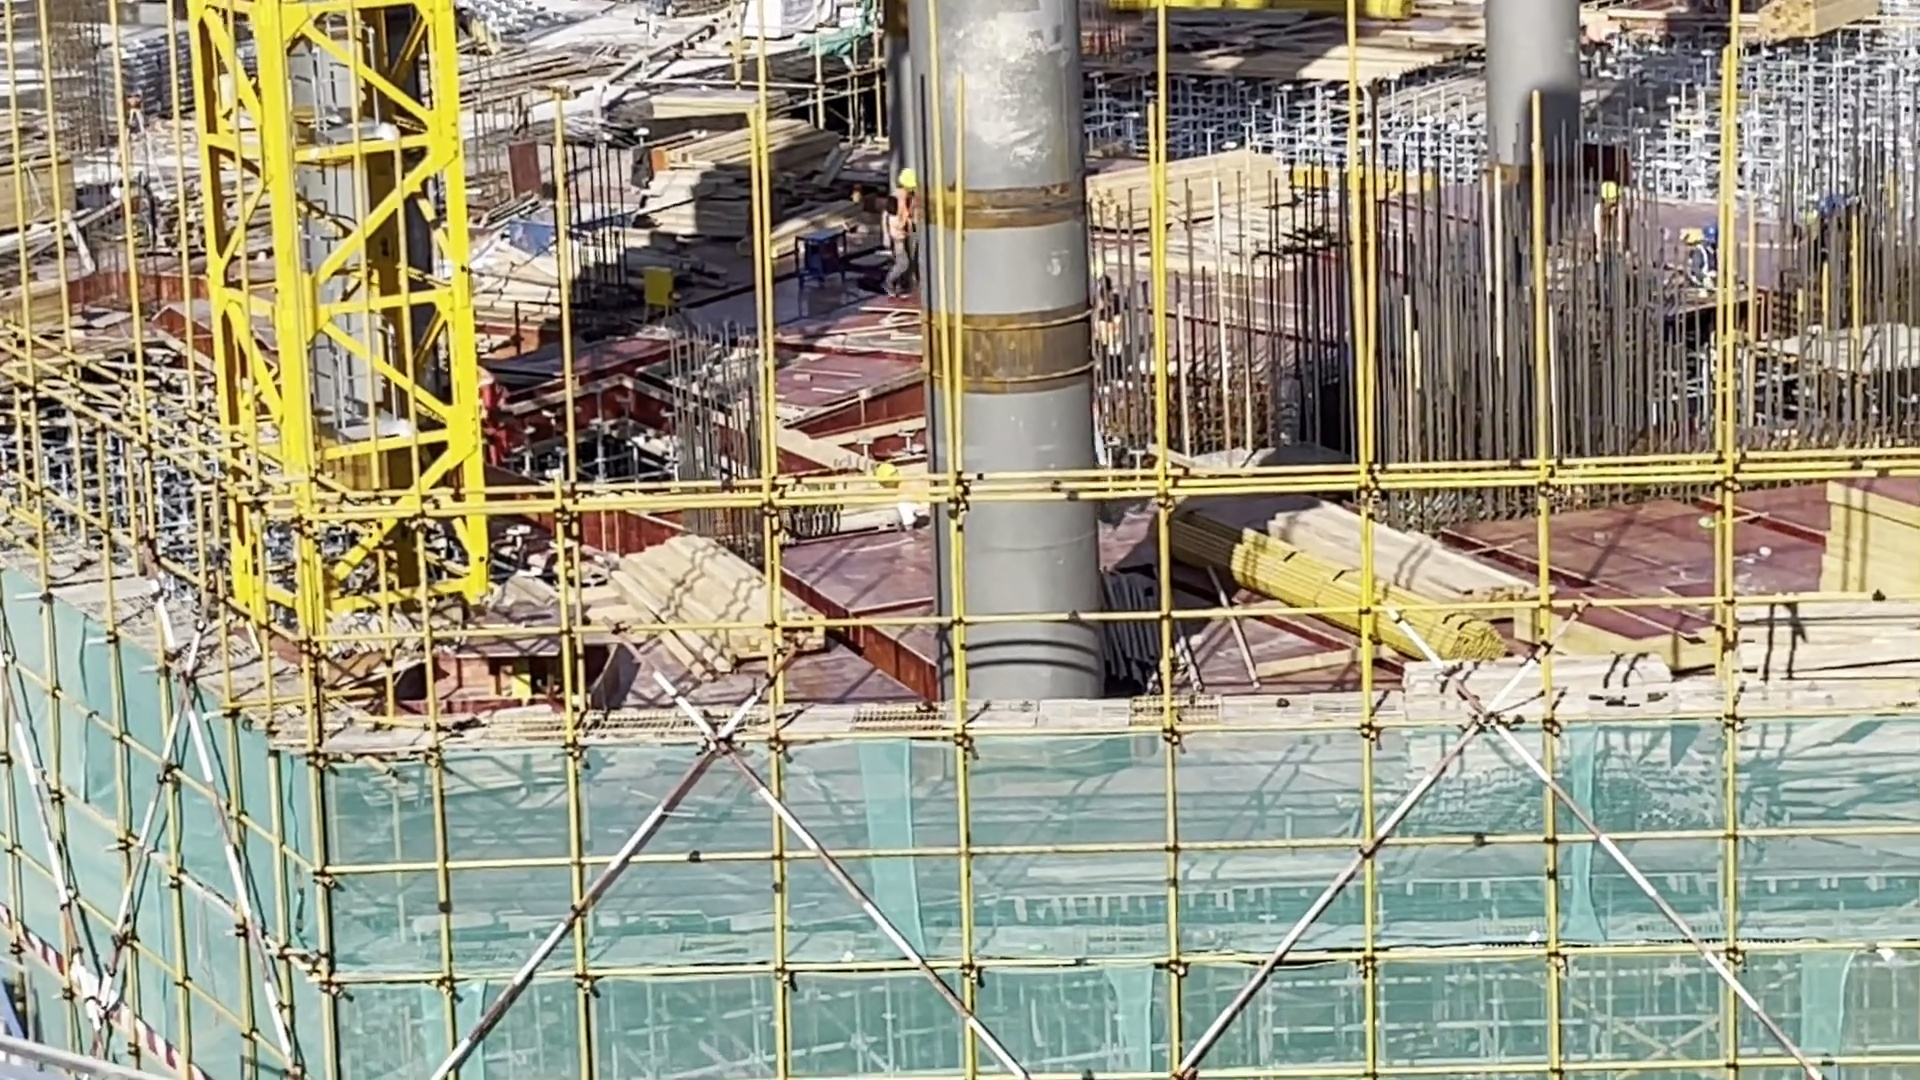board: (1806, 439, 1920, 558), (638, 69, 786, 122), (1, 133, 84, 221)
cutter: (453, 621, 659, 741)
ebox: (651, 264, 684, 302), (508, 656, 529, 699)
helmet: (1703, 222, 1733, 252), (896, 159, 919, 192), (866, 464, 894, 487), (1819, 191, 1839, 214), (1093, 258, 1110, 285), (1601, 178, 1621, 199)
hopper: (508, 207, 648, 256)
person: (451, 341, 531, 463), (1797, 171, 1889, 260), (1092, 250, 1139, 388), (879, 158, 919, 300), (1597, 166, 1646, 280), (886, 446, 944, 531), (1686, 221, 1739, 303)
vest: (484, 384, 524, 449), (1831, 204, 1871, 267), (1099, 285, 1132, 352), (881, 194, 913, 249), (1691, 234, 1723, 286), (901, 486, 936, 531), (1604, 205, 1628, 242)
wood: (1209, 454, 1486, 611), (634, 517, 811, 652), (1116, 126, 1273, 262), (689, 139, 836, 221)
